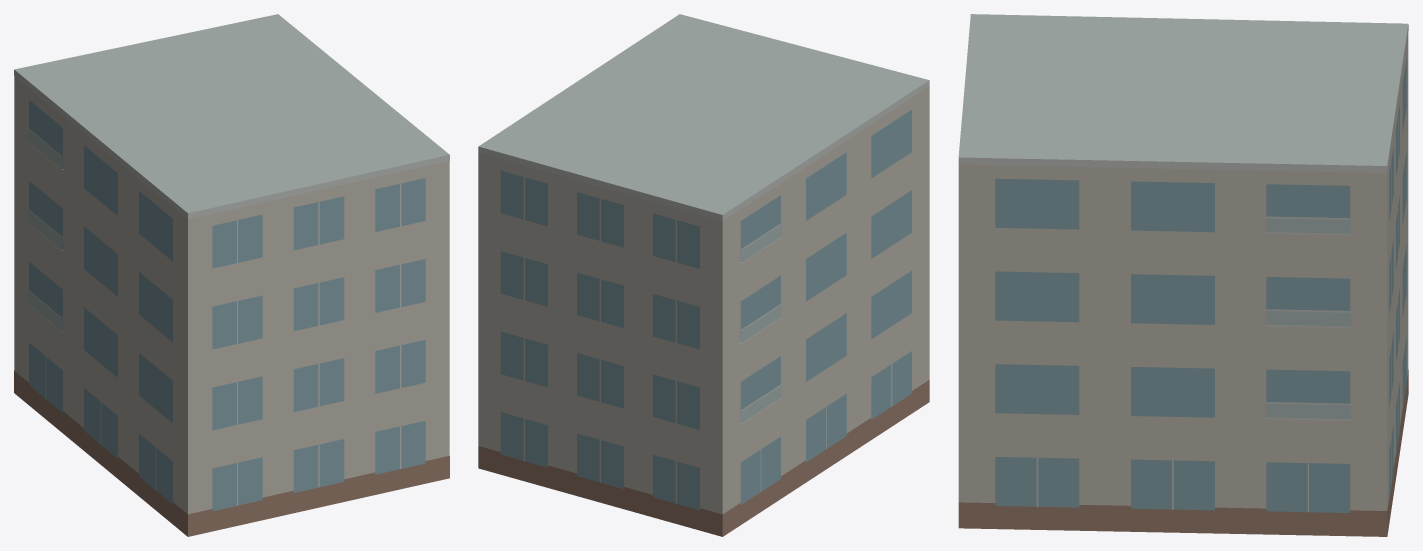
The model's file is survey-upis-33043703.glb.
The picture shows the model from 3 angles, left to right: view 1: azimuth 30°, elevation 25°; view 2: azimuth 150°, elevation 25°; view 3: azimuth 270°, elevation 25°; orthographic projection. The views are drawn at different scales.
Visible parts, largest first — view 1: survey-upis-33043703.tmp; view 2: survey-upis-33043703.tmp; view 3: survey-upis-33043703.tmp.
Boxes of the visible parts, x1,y1,x2,y2 form: survey-upis-33043703.tmp: (14, 14, 449, 536); survey-upis-33043703.tmp: (478, 14, 929, 536); survey-upis-33043703.tmp: (958, 14, 1408, 536).
Size of the model in its own units: 11.27 by 12.8 by 14.09.
